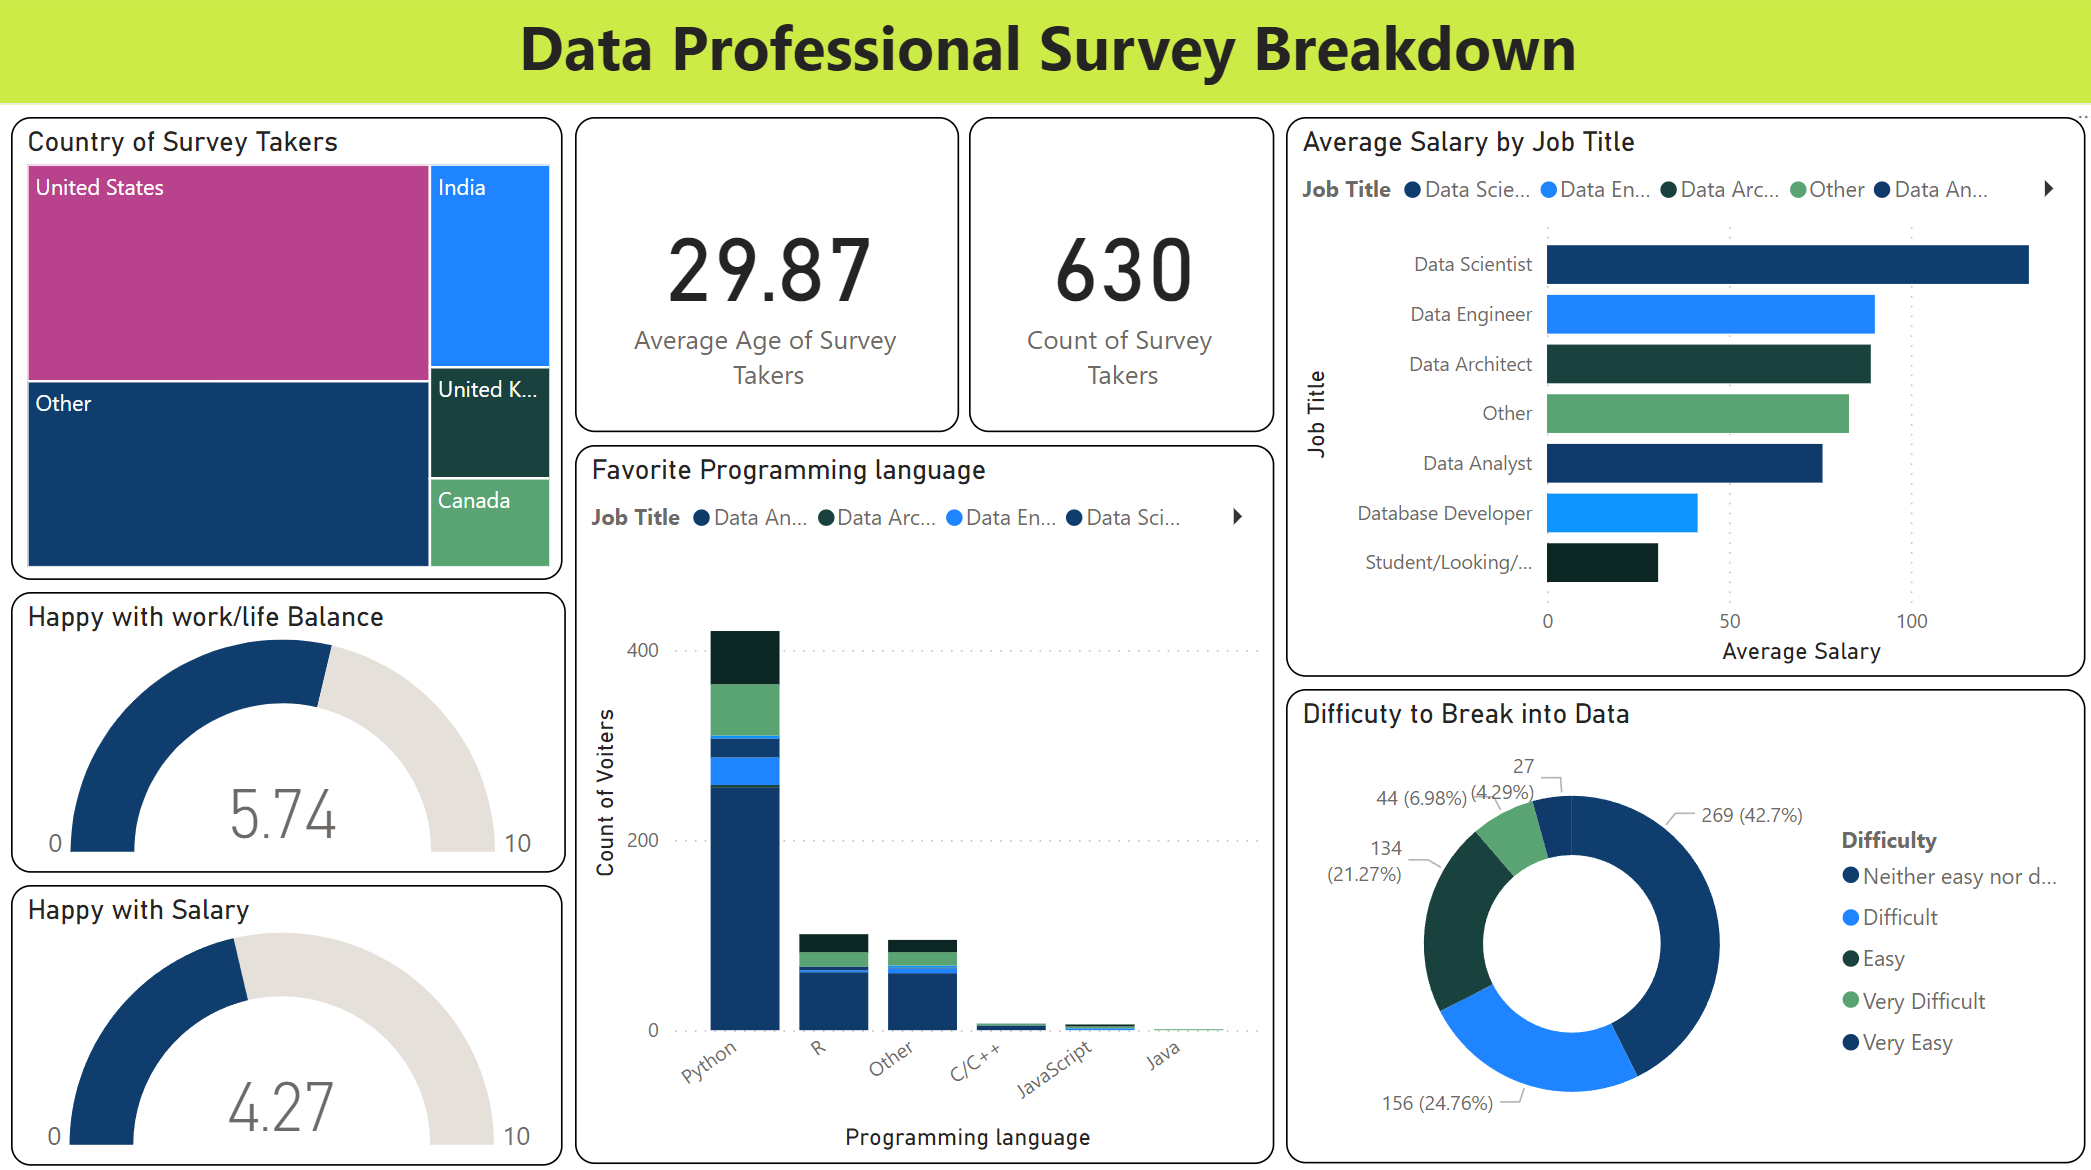

What the dashboard file says about the page in this screenshot:
{"tool":"powerbi","page":{"name":"data1","canvas":[1280,720],"ordinal":0},"visuals":[{"type":"card","fields":{"Values":["CountNonNull(Data Professional Survey.Unique ID)"]},"box":[592.2,73.6,185.7,191.8],"z":0},{"type":"textbox","box":[0,0,1280.6,65.8],"z":1000},{"type":"card","fields":{"Values":["Avg(Data Professional Survey.Q10 - Current Age)"]},"box":[352.2,73.6,234,191.8],"z":2000},{"type":"barChart","title":"Average Salary by Job Title","fields":{"Category":["Data Professional Survey.Q1 - Which Title Best Fits your Current Role?.1"],"Y":["Avg(Data Professional Survey.Average Salary)"],"Series":["Data Professional Survey.Q1 - Which Title Best Fits your Current Role?.1"]},"box":[785.1,73.6,487.2,341.3],"z":3000},{"type":"columnChart","title":"Favorite Programming language","fields":{"Y":["CountNonNull(Data Professional Survey.Unique ID)"],"Category":["Data Professional Survey.Q5 - Favorite Programming Language.1"],"Series":["Data Professional Survey.Q1 - Which Title Best Fits your Current Role?.1"]},"box":[352.2,273.8,425.7,437.8],"z":4000},{"type":"treemap","title":"Country of Survey Takers","fields":{"Group":["Data Professional Survey.Q11 - Which Country do you live in?.1"],"Values":["CountNonNull(Data Professional Survey.Q11 - Which Country do you live in?.1)"]},"box":[8.4,73.6,336.5,282.2],"z":5000},{"type":"gauge","title":"Happy with work/life Balance","fields":{"Y":["Avg(Data Professional Survey.Q6 - How Happy are you in your Current Position with the following? (Work/Life Balance))"],"MinValue":["Min(Data Professional Survey.Q6 - How Happy are you in your Current Position with the following? (Work/Life Balance))1"],"MaxValue":["Max(Data Professional Survey.Q6 - How Happy are you in your Current Position with the following? (Work/Life Balance))2"]},"box":[8.4,363,337.7,171.3],"z":6000},{"type":"gauge","title":"Happy with Salary","fields":{"Y":["Avg(Data Professional Survey.Q6 - How Happy are you in your Current Position with the following? (Salary))"],"MinValue":["Min(Data Professional Survey.Q6 - How Happy are you in your Current Position with the following? (Salary))"],"MaxValue":["Max(Data Professional Survey.Q6 - How Happy are you in your Current Position with the following? (Salary))1"]},"box":[8.4,541.5,336.5,171.3],"z":7000},{"type":"donutChart","title":"Difficuty to Break into Data","fields":{"Category":["Data Professional Survey.Q7 - How difficult was it for you to break into Data?"],"Y":["CountNonNull(Data Professional Survey.Q7 - How difficult was it for you to break into Data?)"]},"box":[785.1,422.1,487.2,289.4],"z":8000}]}

Visuals, with their boxes in screenshot pixels (x1, y1, x2, y2), scaled from the page's 1280x720 canvas onto the 2091x1170 screenshot:
card - CountNonNull(Data Professional Survey.Unique ID): left=967, top=120, right=1271, bottom=431
textbox: left=0, top=0, right=2090, bottom=107
card - Avg(Data Professional Survey.Q10 - Current Age): left=575, top=120, right=958, bottom=431
"Average Salary by Job Title" barChart: left=1283, top=120, right=2078, bottom=674
"Favorite Programming language" columnChart: left=575, top=445, right=1271, bottom=1156
"Country of Survey Takers" treemap: left=14, top=120, right=563, bottom=578
"Happy with work/life Balance" gauge: left=14, top=590, right=565, bottom=868
"Happy with Salary" gauge: left=14, top=880, right=563, bottom=1158
"Difficuty to Break into Data" donutChart: left=1283, top=686, right=2078, bottom=1156
